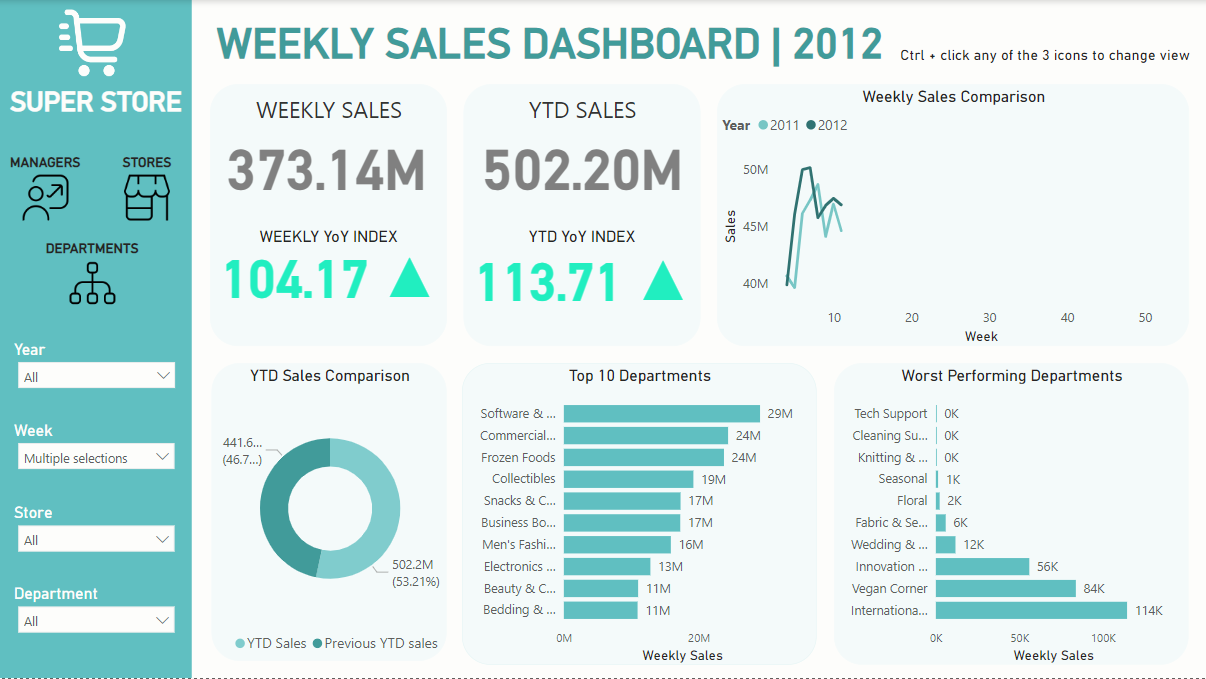

Layout of this report page (visuals, bound fields, positions):
{"tool":"powerbi","page":{"name":"Dashboard","canvas":[1280,720],"ordinal":0},"visuals":[{"type":"shape","title":"YTD SALES","box":[492.1,89.1,251.1,278],"z":0},{"type":"shape","title":"WEEKLY SALES","box":[223.2,89.1,251.1,278],"z":1000},{"type":"shape","box":[0,0,203.4,720],"z":2000},{"type":"slicer","title":"Week","fields":{"Values":["Date Dimension.WeekNum"]},"box":[8.8,441.4,185,69],"z":3000},{"type":"card","title":"WEEKLY SALES","fields":{"Values":["All data.Current Year Sales"]},"box":[232.3,130.8,227.3,84.2],"z":4000},{"type":"textbox","title":"WEEKLY SALES DASHBOARD | 2012","box":[224.1,20.7,726.4,50.9],"z":5000},{"type":"slicer","title":"Store ","fields":{"Values":["stores data-set.Store Name"]},"box":[8.8,527.8,185,69],"z":6000},{"type":"slicer","title":"Department ","fields":{"Values":["Department.Department Name"]},"box":[8.8,614.2,185,69.9],"z":7000},{"type":"lineChart","title":"Weekly Sales Comparison","fields":{"Y":["Sum(All data.Weekly_Sales)"],"Category":["Date Dimension.WeekNum"],"Series":["Date Dimension.Year"]},"box":[760.4,89.1,500.7,278.1],"z":8000},{"type":"card","title":"WEEKLY YoY INDEX","fields":{"Values":["All data.Weekly S I"]},"box":[222.8,240.1,251.1,84.2],"z":9000},{"type":"clusteredBarChart","title":"Top 10 Departments","fields":{"Category":["Department.Department Name"],"Y":["All data.Current Year Sales"]},"box":[490.7,385.1,376,320],"z":10000},{"type":"donutChart","title":"YTD Sales Comparison","fields":{"Y":["All data.YTD Sales","All data.Previous YTD sales"]},"box":[224.8,385.1,249.5,316],"z":11000},{"type":"slicer","title":"Year","fields":{"Values":["Date Dimension.Year"]},"box":[9.5,354.1,186,69.9],"z":13000},{"type":"card","title":"YTD YoY INDEX","fields":{"Values":["All data.YTD S I"]},"box":[491.6,240.1,251.1,84.2],"z":14000},{"type":"clusteredBarChart","title":"Worst Performing Departments","fields":{"Category":["Department.Department Name"],"Y":["All data.Current Year Sales"]},"box":[883.7,385.1,376,320],"z":15000},{"type":"card","title":"YTD SALES","fields":{"Values":["All data.YTD Sales"]},"box":[502.8,130.8,227.3,84.2],"z":16000},{"type":"textbox","title":"SUPER STORE","box":[4.8,90.6,193.9,65.2],"z":19000},{"type":"textbox","title":"Ctrl + click any of the 3 icons to change view","box":[950,49.3,319.5,27],"z":20000},{"type":"image","title":"MANAGERS","box":[0,163.9,96,70],"z":21000},{"type":"image","title":"DEPARTMENTS","box":[47.7,254.3,100.1,69.9],"z":22000},{"type":"image","title":"STORES","box":[108.1,163.2,95.4,70],"z":23000},{"type":"image","box":[57,4,81.1,81.1],"z":24000}]}

Visuals, with their boxes in screenshot pixels (x1, y1, x2, y2), scaled from the page's 1280x720 canvas onto the 1206x679 screenshot:
"YTD SALES" shape: 464 84 700 346
"WEEKLY SALES" shape: 210 84 447 346
shape: 0 0 192 678
"Week" slicer: 8 416 183 481
"WEEKLY SALES" card: 219 123 433 203
"WEEKLY SALES DASHBOARD | 2012" textbox: 211 20 896 68
"Store " slicer: 8 498 183 563
"Department " slicer: 8 579 183 645
"Weekly Sales Comparison" lineChart: 716 84 1188 346
"WEEKLY YoY INDEX" card: 210 226 447 306
"Top 10 Departments" clusteredBarChart: 462 363 817 665
"YTD Sales Comparison" donutChart: 212 363 447 661
"Year" slicer: 9 334 184 400
"YTD YoY INDEX" card: 463 226 700 306
"Worst Performing Departments" clusteredBarChart: 833 363 1187 665
"YTD SALES" card: 474 123 688 203
"SUPER STORE" textbox: 5 85 187 147
"Ctrl + click any of the 3 icons to change view" textbox: 895 46 1196 72
"MANAGERS" image: 0 155 90 221
"DEPARTMENTS" image: 45 240 139 306
"STORES" image: 102 154 192 220
image: 54 4 130 80
